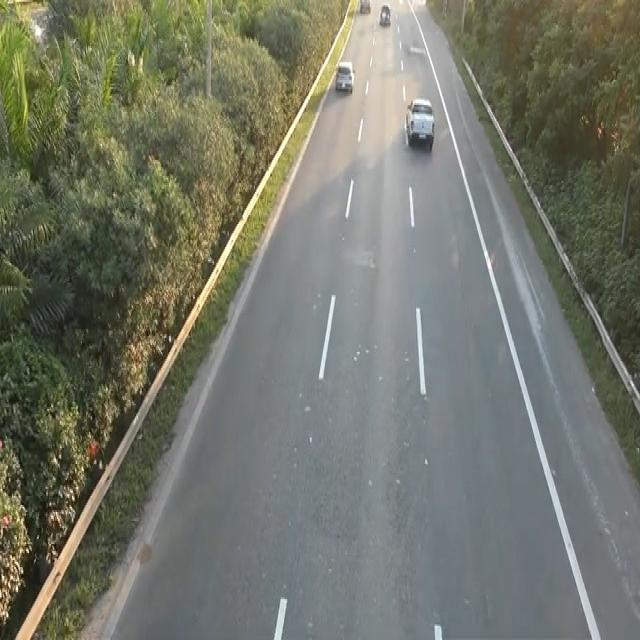bus: (334, 59, 355, 94)
car: (402, 92, 438, 156), (378, 4, 391, 26)
